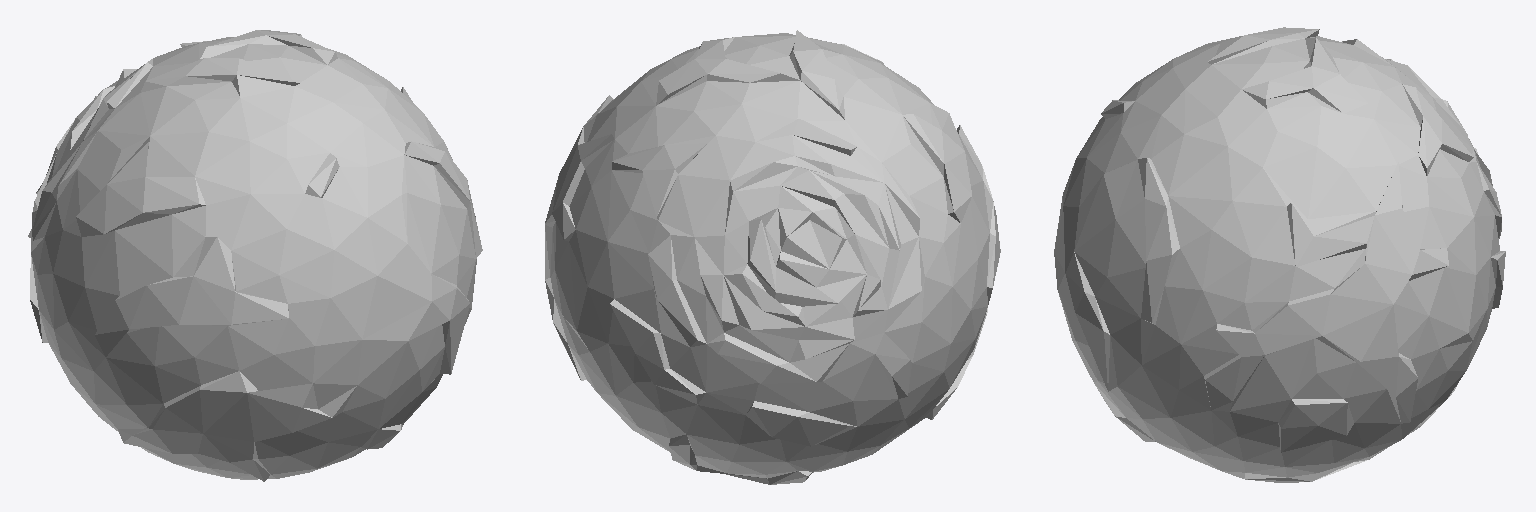
The model's file is mars.obj.
3 renders of one model, left to right at view 1: azimuth 30°, elevation 25°; view 2: azimuth 150°, elevation 25°; view 3: azimuth 270°, elevation 25°, orthographic.
Parts seen in each view (by area): view 1: Mars; view 2: Mars; view 3: Mars.
Boxes of the visible parts, x1=… form: Mars: x1=28, y1=30, x2=482, y2=481; Mars: x1=545, y1=30, x2=1000, y2=484; Mars: x1=1054, y1=27, x2=1505, y2=482.
Size of the model in its own units: 8.14 by 8.21 by 8.15.